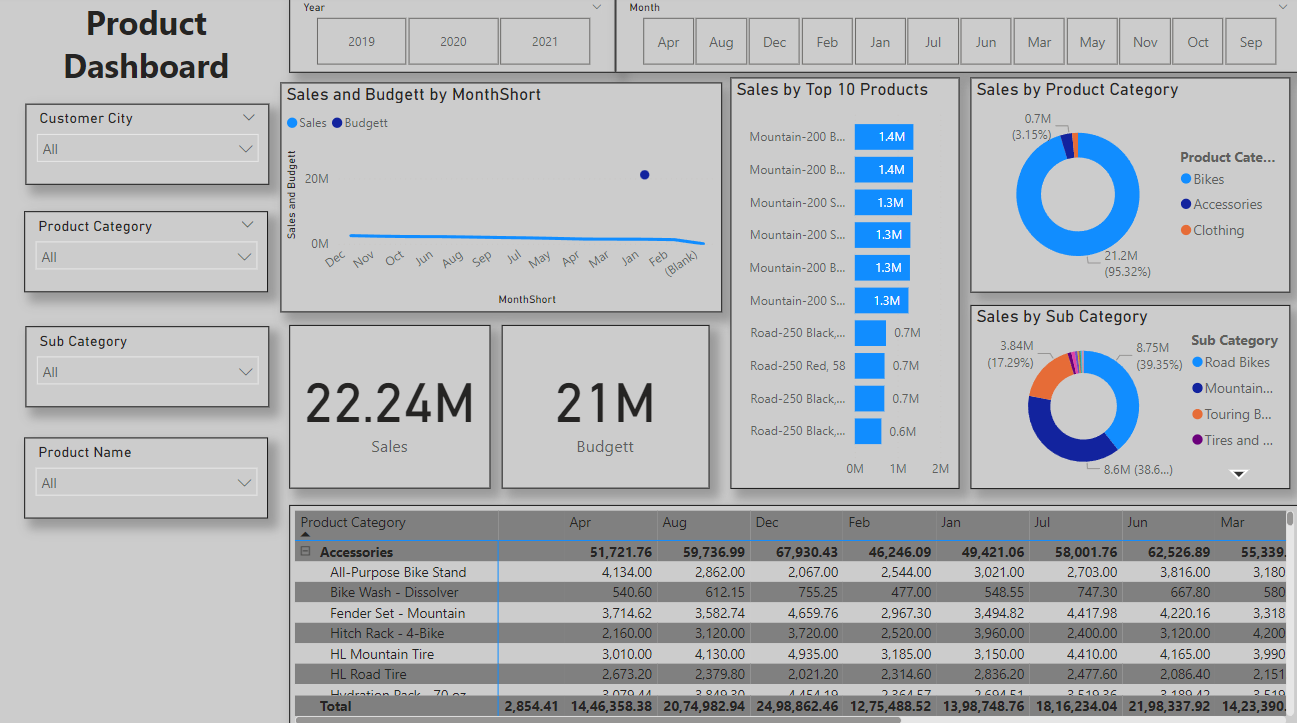

This screenshot's page, from the dashboard's own definition file:
{"tool":"powerbi","page":{"name":"Product","canvas":[1280,720],"ordinal":1},"visuals":[{"type":"textbox","box":[10,0,280,280],"z":0},{"type":"slicer","fields":{"Values":["DIM_Calendar.Year"]},"box":[289.8,0,319.2,75.8],"z":1000},{"type":"slicer","fields":{"Values":["DIM_Calendar.MonthShort"]},"box":[609,0,671.3,75.8],"z":2000},{"type":"slicer","fields":{"Values":["DIM_Customers.Customer City"]},"box":[31.8,106.4,238.5,79.5],"z":3000},{"type":"slicer","fields":{"Values":["DIM_Products.Product Category"]},"box":[30.6,211.6,238.5,79.5],"z":4000},{"type":"slicer","fields":{"Values":["DIM_Products.Sub Category"]},"box":[31.8,324.1,238.5,79.5],"z":5000},{"type":"slicer","fields":{"Values":["DIM_Products.Product Name"]},"box":[30.6,432.9,238.5,79.5],"z":6000},{"type":"lineChart","fields":{"Category":["DIM_Calendar.MonthShort"],"Y":["Metrics.Sales","Metrics.Budgett"]},"box":[281.3,85.6,431.7,225],"z":9000},{"type":"barChart","title":"Sales by Top 10 Products","fields":{"Category":["DIM_Products.Product Name"],"Y":["Metrics.Sales"]},"box":[721.5,80.7,223.8,402.3],"z":11000},{"type":"donutChart","fields":{"Y":["Metrics.Sales"],"Category":["DIM_Products.Product Category"]},"box":[956.3,80.7,313,210.3],"z":14000},{"type":"donutChart","fields":{"Y":["Metrics.Sales"],"Category":["DIM_Products.Sub Category"]},"box":[956.3,303.3,313,179.8],"z":14001},{"type":"card","fields":{"Values":["Metrics.Sales"]},"box":[289.8,322.8,196.9,160.2],"z":14002},{"type":"card","fields":{"Values":["Metrics.Budgett"]},"box":[497.7,322.8,203,160.2],"z":14003},{"type":"pivotTable","fields":{"Rows":["DIM_Products.Product Category","DIM_Products.Product Name"],"Values":["Metrics.Sales"],"Columns":["DIM_Calendar.MonthShort"]},"box":[289.8,498.9,990.5,221.3],"z":14004}]}

Visuals, with their boxes in screenshot pixels (x1, y1, x2, y2), scaled from the page's 1280x720 canvas onto the 1297x723 screenshot:
textbox: region(10, 0, 294, 281)
slicer - DIM_Calendar.Year: region(294, 0, 617, 76)
slicer - DIM_Calendar.MonthShort: region(617, 0, 1296, 76)
slicer - DIM_Customers.Customer City: region(32, 107, 274, 187)
slicer - DIM_Products.Product Category: region(31, 212, 273, 292)
slicer - DIM_Products.Sub Category: region(32, 325, 274, 405)
slicer - DIM_Products.Product Name: region(31, 435, 273, 515)
lineChart - DIM_Calendar.MonthShort x Metrics.Sales: region(285, 86, 722, 312)
"Sales by Top 10 Products" barChart: region(731, 81, 958, 485)
donutChart - Metrics.Sales x DIM_Products.Product Category: region(969, 81, 1286, 292)
donutChart - Metrics.Sales x DIM_Products.Sub Category: region(969, 305, 1286, 485)
card - Metrics.Sales: region(294, 324, 493, 485)
card - Metrics.Budgett: region(504, 324, 710, 485)
pivotTable - DIM_Products.Product Category x DIM_Products.Product Name: region(294, 501, 1296, 722)
